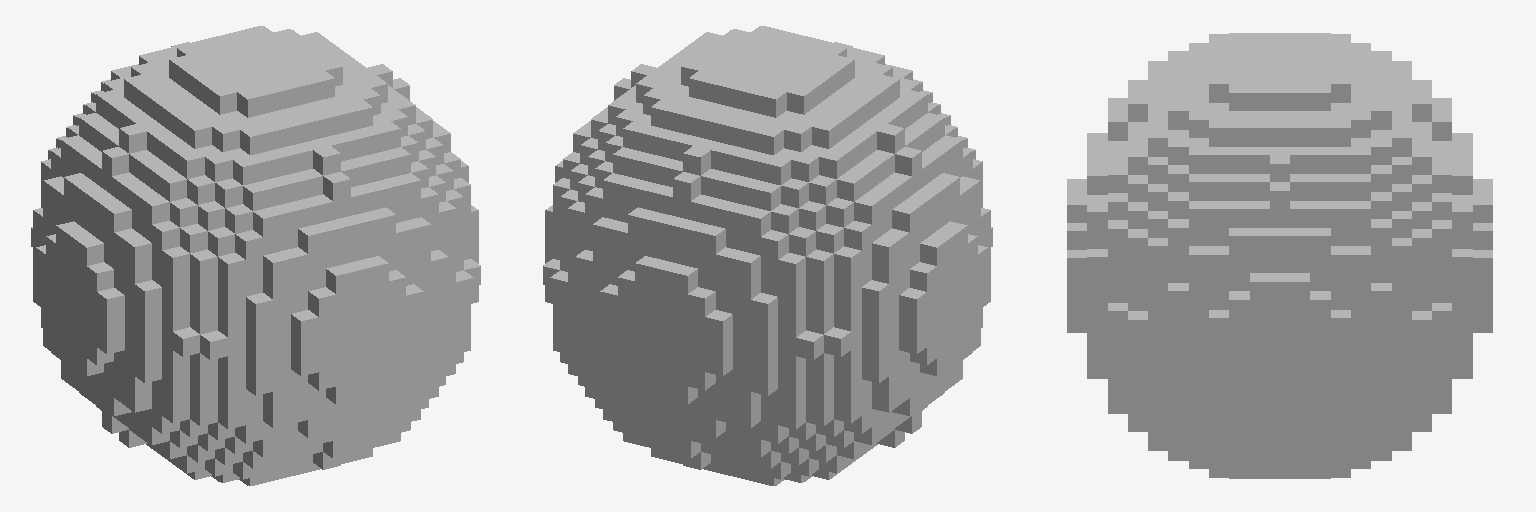
The model's file is ball.obj.
3 renders of one model, left to right at view 1: azimuth 30°, elevation 25°; view 2: azimuth 150°, elevation 25°; view 3: azimuth 270°, elevation 25°, orthographic.
Visible parts, largest first — view 1: skybox; view 2: skybox; view 3: skybox.
Part boxes in pixels (x1,y1,x2,y2): skybox: (31,26,480,485); skybox: (543,26,992,485); skybox: (1067,33,1492,478).
Bounding box in the file's own units: 2.1 × 2.1 × 2.1.